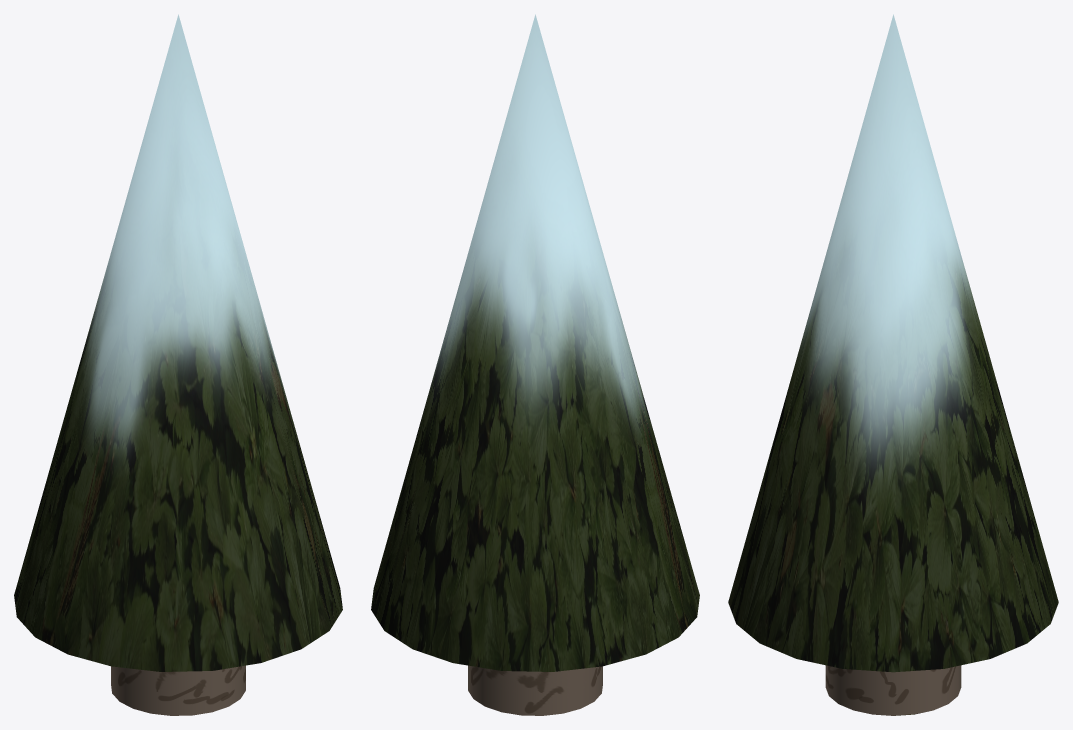
The model's file is Tree_OBJ.fbx.
3 views of the same model, side by side, from view 1: azimuth 30°, elevation 25°; view 2: azimuth 150°, elevation 25°; view 3: azimuth 270°, elevation 25° (orthographic).
Parts seen in each view (by area): view 1: Tree_MSH; view 2: Tree_MSH; view 3: Tree_MSH.
Part boxes in pixels (<box>): Tree_MSH: <box>14,14,342,715</box>; Tree_MSH: <box>371,14,699,715</box>; Tree_MSH: <box>728,14,1058,715</box>.
Size of the model in its own units: 3.09 by 6.94 by 3.09.
Materials: 1 (1 with a texture image).
